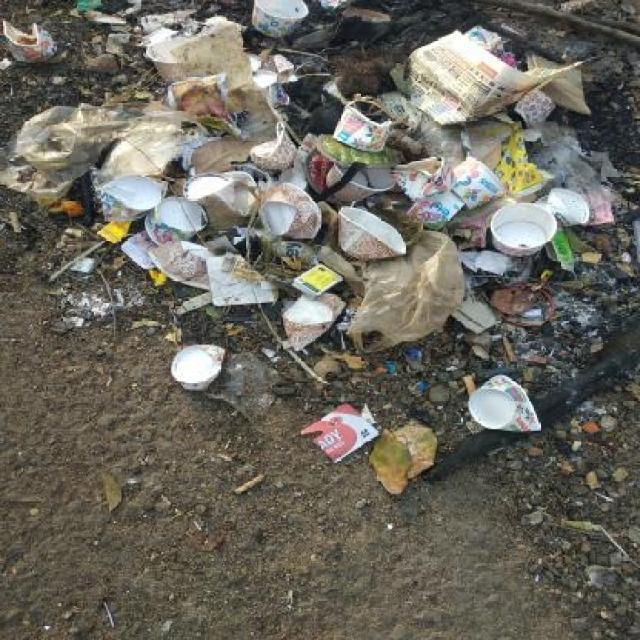garbage: (3, 3, 633, 492)
